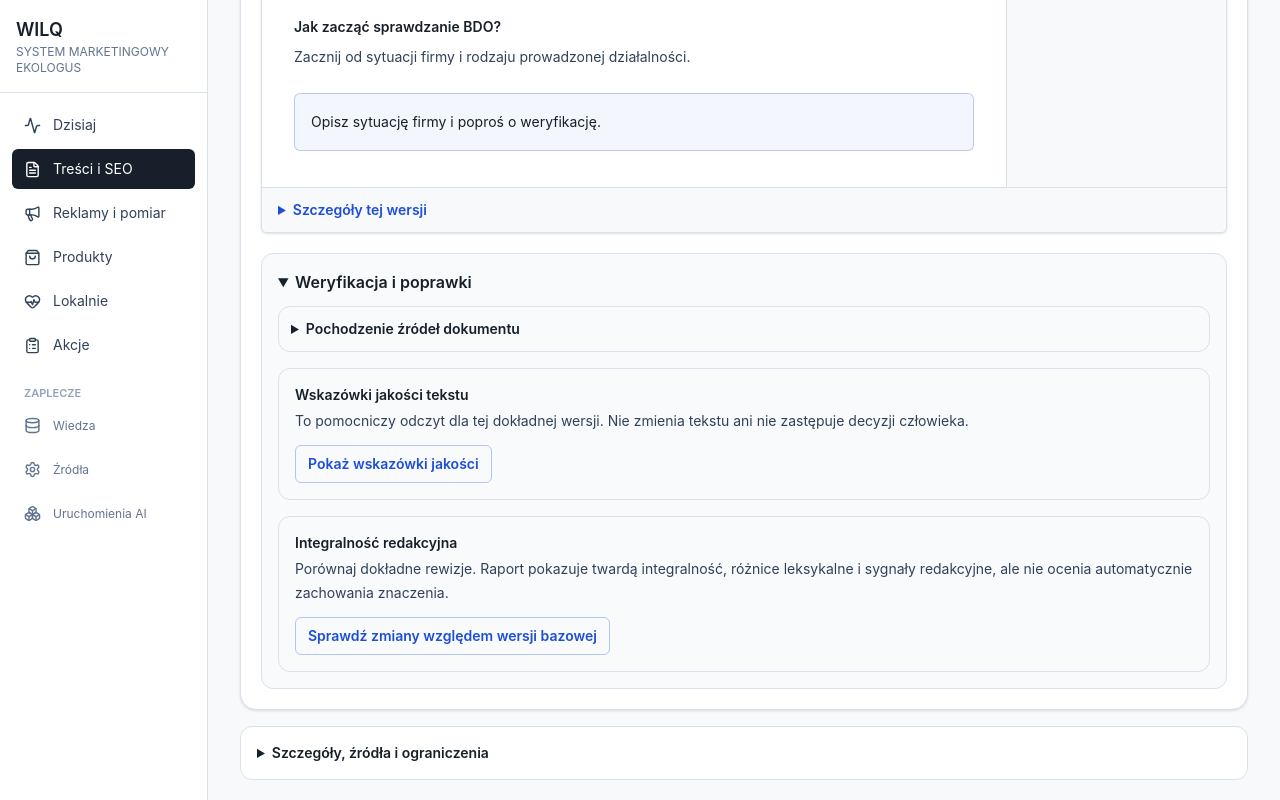
it: ContentWorkflowSurface › reads editorial integrity for the exact revision without starting a revision or review mutation
(page scrolled)
Click the button "Sprawdź zmiany względem wersji bazowej": (452, 636) x1=295 y1=616 x2=610 y2=654
(page scrolled)
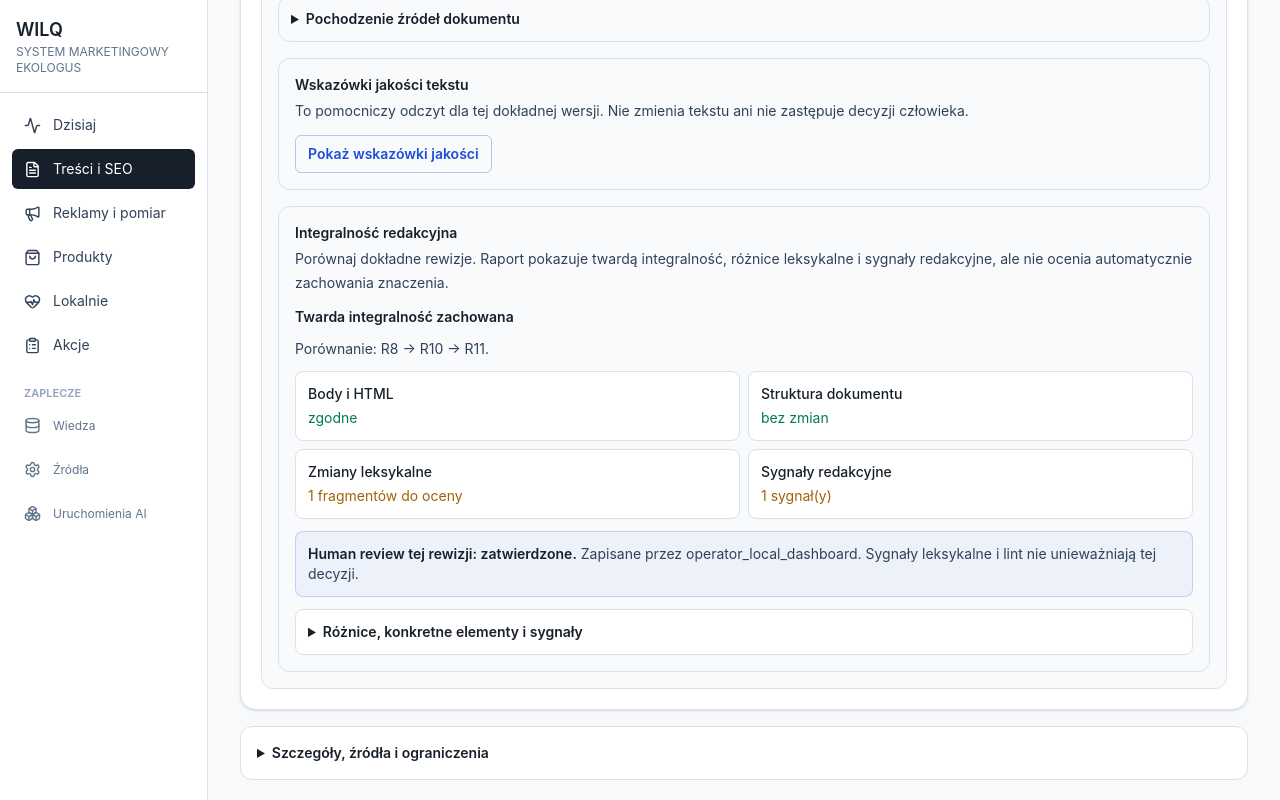
Expected: the text "Twarda integralność zachowana" is shown, x1=295 y1=308 x2=514 y2=324
Expected: the text "Porównanie: R8 → R10 → R11." is shown, x1=295 y1=340 x2=489 y2=356
Expected: the text "Human review tej rewizji: zatwierdzone." is shown, x1=308 y1=544 x2=577 y2=562
